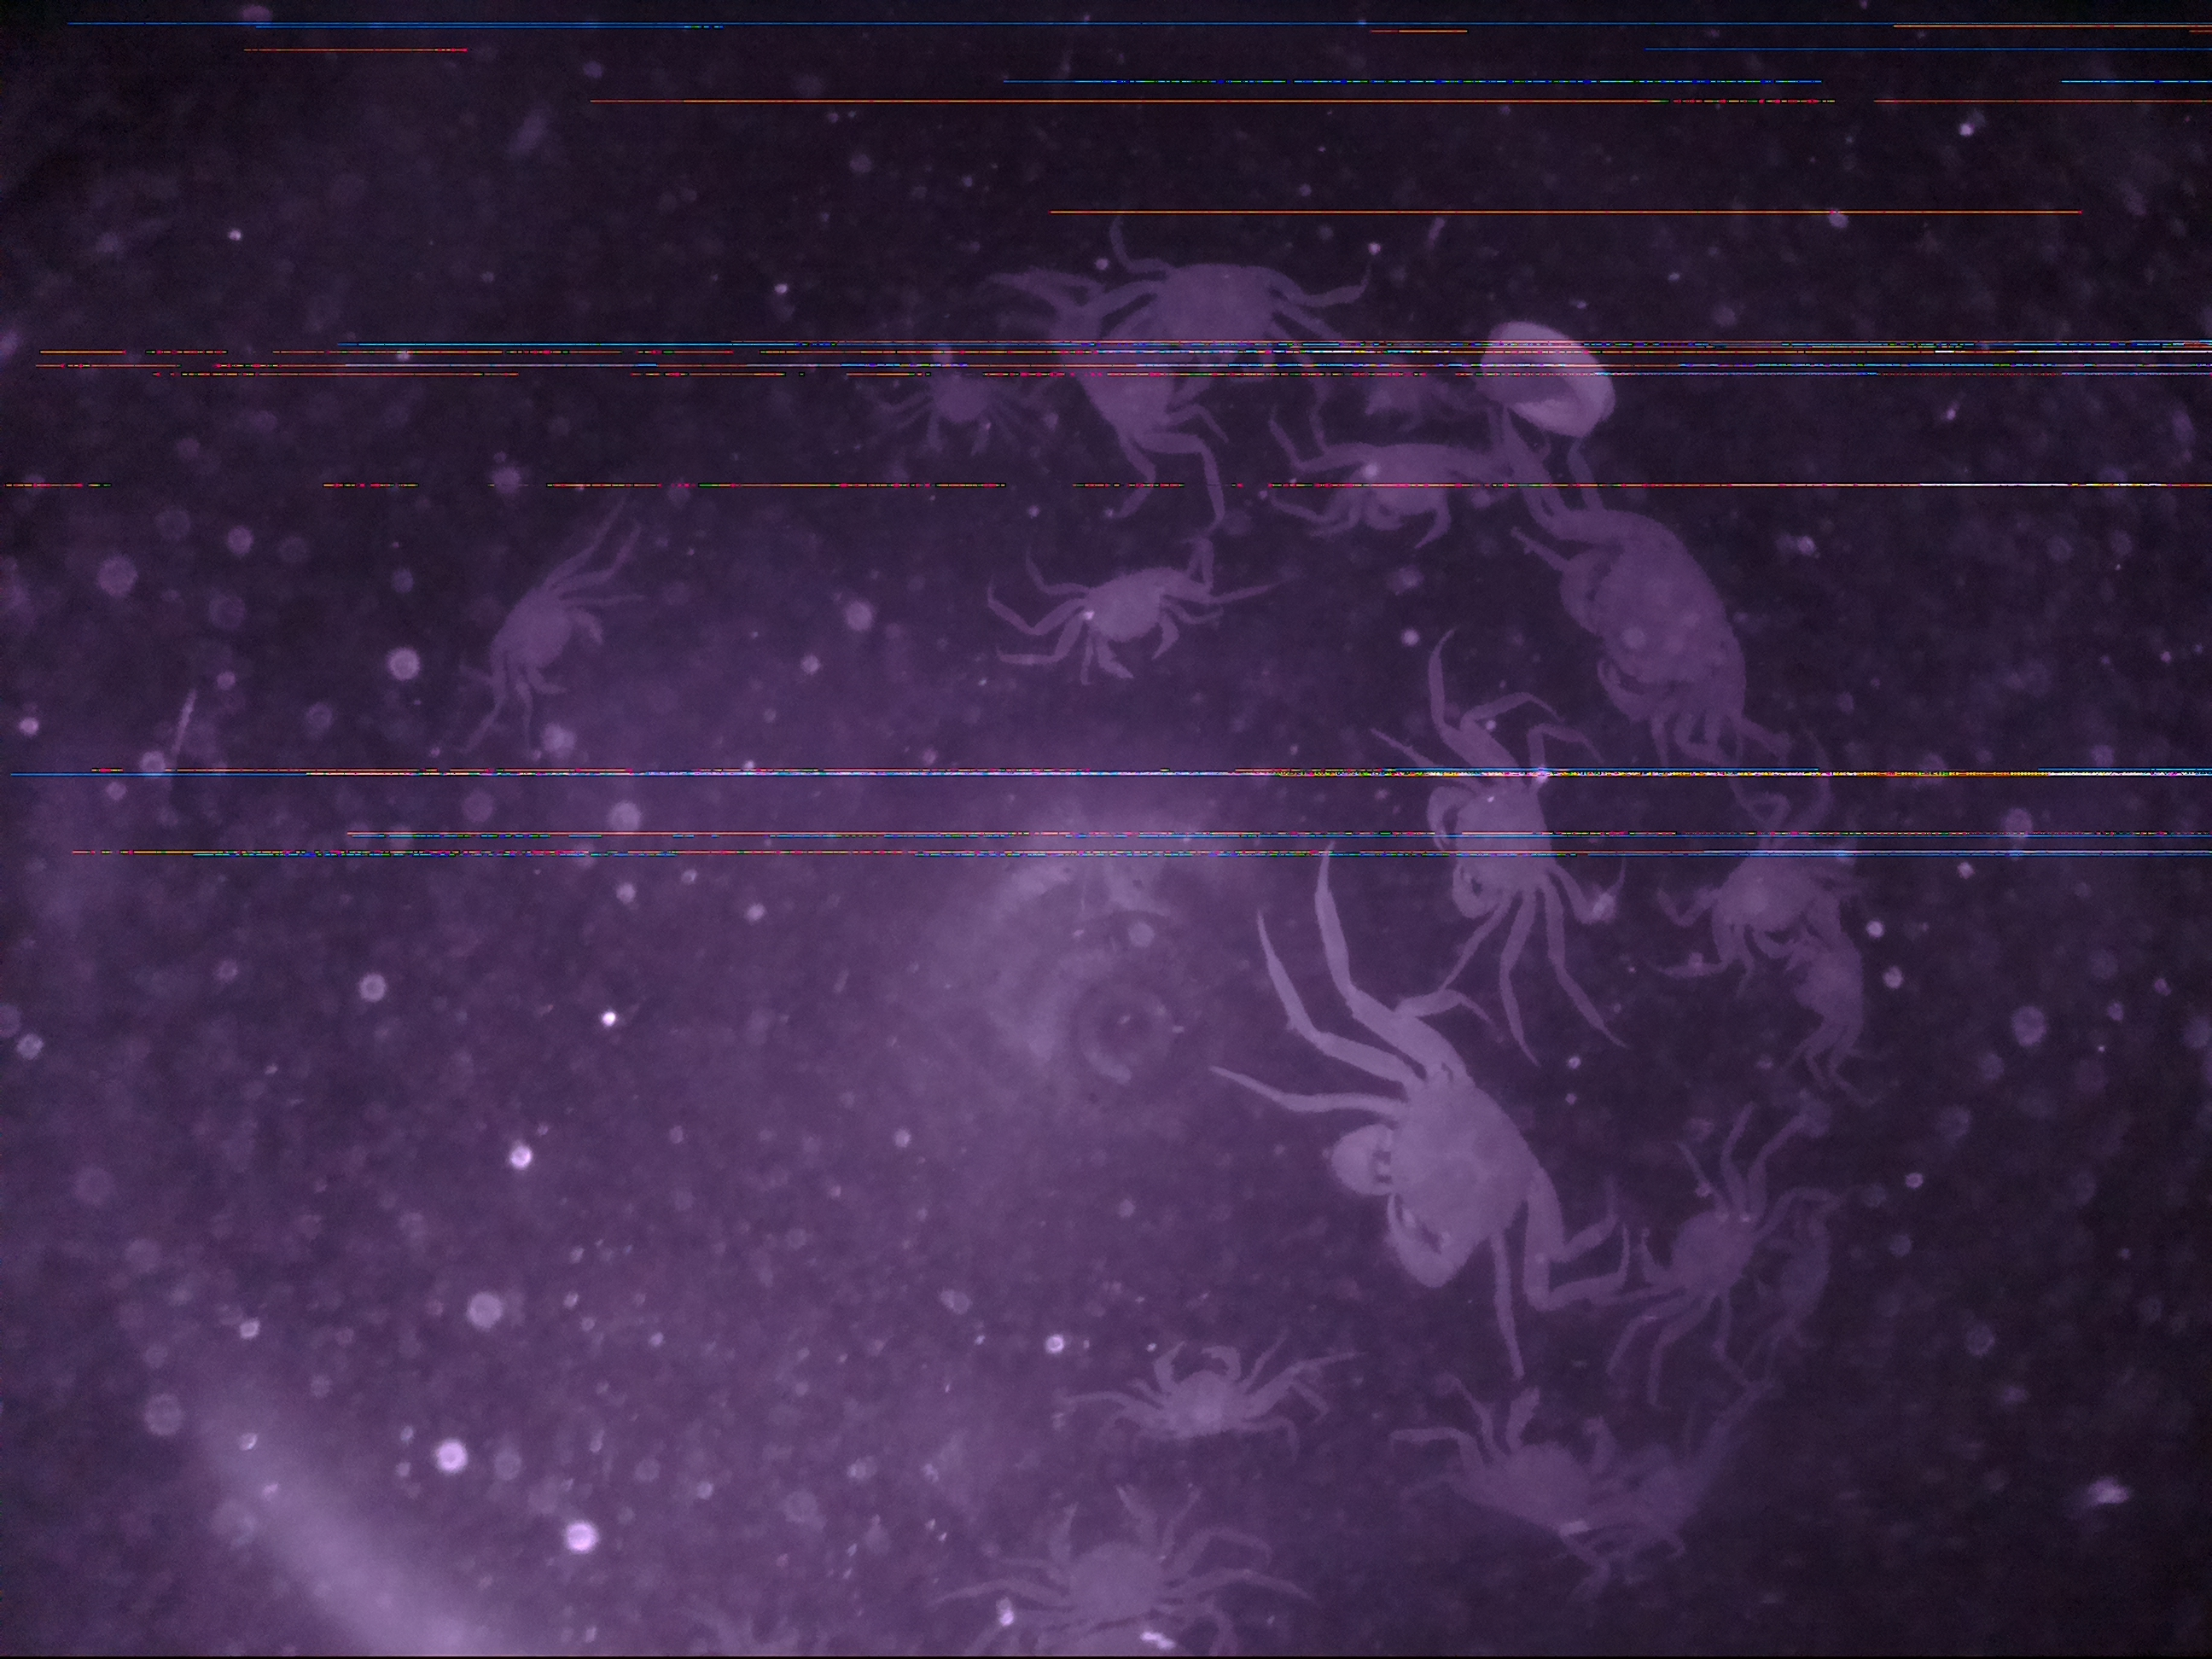Crab: (1308, 1028, 1559, 1312), (1540, 502, 1754, 735), (1622, 1150, 1782, 1351), (1014, 1473, 1188, 1650), (1008, 544, 1209, 692), (1460, 1371, 1615, 1540), (470, 556, 629, 709), (1120, 1323, 1289, 1464)
